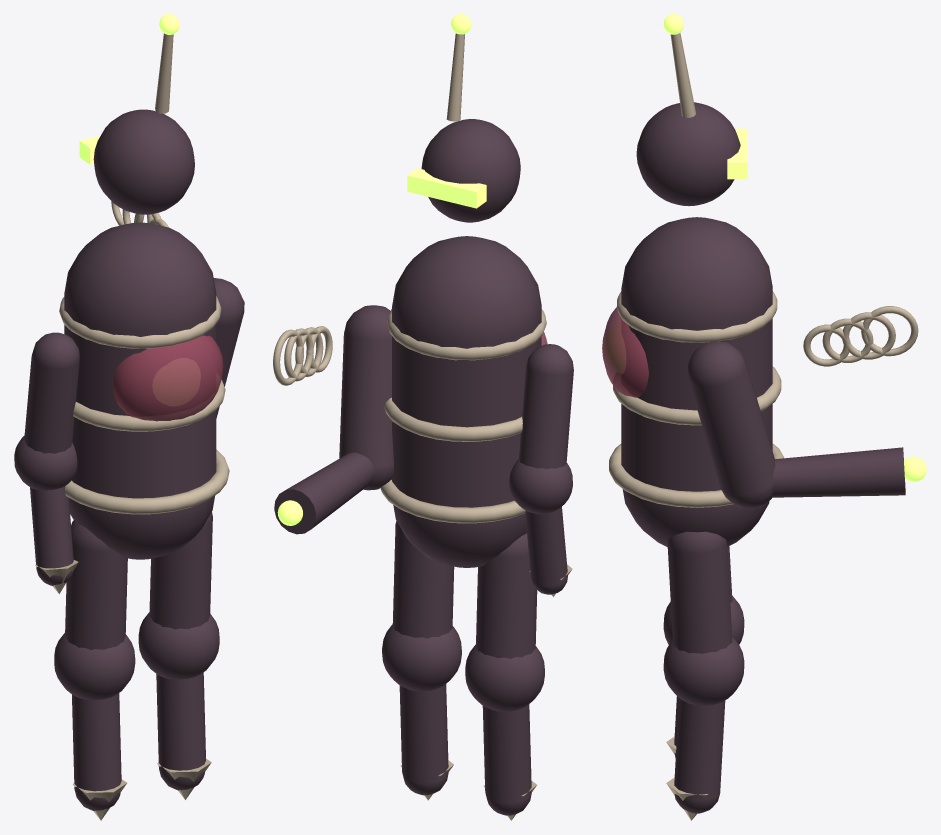
File: grafted-brood-shooter.glb
The picture shows the model from 3 angles, left to right: view 1: azimuth 30°, elevation 25°; view 2: azimuth 150°, elevation 25°; view 3: azimuth 270°, elevation 25°; orthographic projection.
Parts seen in each view (by area): view 1: torso_shell, skull_plate, torso, chest_sac, leg_l_upper, off_arm_upper, leg_r_upper, leg_r_lower, leg_l_lower, leg_r_knee, leg_l_knee, off_arm_lower (+5 smaller); view 2: torso_shell, gun_upper, skull_plate, torso, leg_l_upper, off_arm_upper, leg_r_upper, leg_r_lower, leg_l_lower, gun_barrel, leg_r_knee, leg_l_knee (+8 smaller); view 3: torso_shell, gun_upper, skull_plate, leg_r_upper, torso, gun_barrel, leg_r_lower, leg_r_knee, chest_sac, antenna_stalk, gun_rib_4, gun_rib_3 (+4 smaller).
Part boxes in pixels (<box>): torso_shell: <box>64,222,216,559</box>; skull_plate: <box>93,109,194,214</box>; torso: <box>59,296,229,514</box>; chest_sac: <box>112,335,223,421</box>; leg_l_upper: <box>65,520,127,649</box>; off_arm_upper: <box>24,332,79,453</box>; leg_r_upper: <box>149,512,212,629</box>; leg_r_lower: <box>156,672,205,790</box>; leg_l_lower: <box>72,693,121,811</box>; leg_r_knee: <box>138,612,219,679</box>; leg_l_knee: <box>54,633,135,700</box>; off_arm_lower: <box>30,486,73,585</box>; torso_shell: <box>392,236,541,567</box>; gun_upper: <box>339,305,393,490</box>; skull_plate: <box>421,119,520,222</box>; torso: <box>380,309,546,523</box>; leg_l_upper: <box>476,533,537,658</box>; off_arm_upper: <box>519,344,573,469</box>; leg_r_upper: <box>392,521,454,638</box>; leg_r_lower: <box>399,684,448,795</box>; leg_l_lower: <box>482,704,531,815</box>; gun_barrel: <box>274,452,375,534</box>; leg_r_knee: <box>382,624,461,691</box>; leg_l_knee: <box>465,644,544,711</box>; torso_shell: <box>621,217,772,546</box>; gun_upper: <box>688,341,775,508</box>; skull_plate: <box>636,102,740,206</box>; leg_r_upper: <box>667,531,732,653</box>; torso: <box>609,291,784,507</box>; gun_barrel: <box>772,447,905,497</box>; leg_r_lower: <box>674,698,725,813</box>; leg_r_knee: <box>663,637,744,705</box>; chest_sac: <box>602,307,648,397</box>; antenna_stalk: <box>670,33,696,117</box>; gun_rib_4: <box>861,306,918,356</box>; gun_rib_3: <box>842,312,895,359</box>.
Bounding box in the file's own units: 0.6356 × 2.17 × 0.803.
